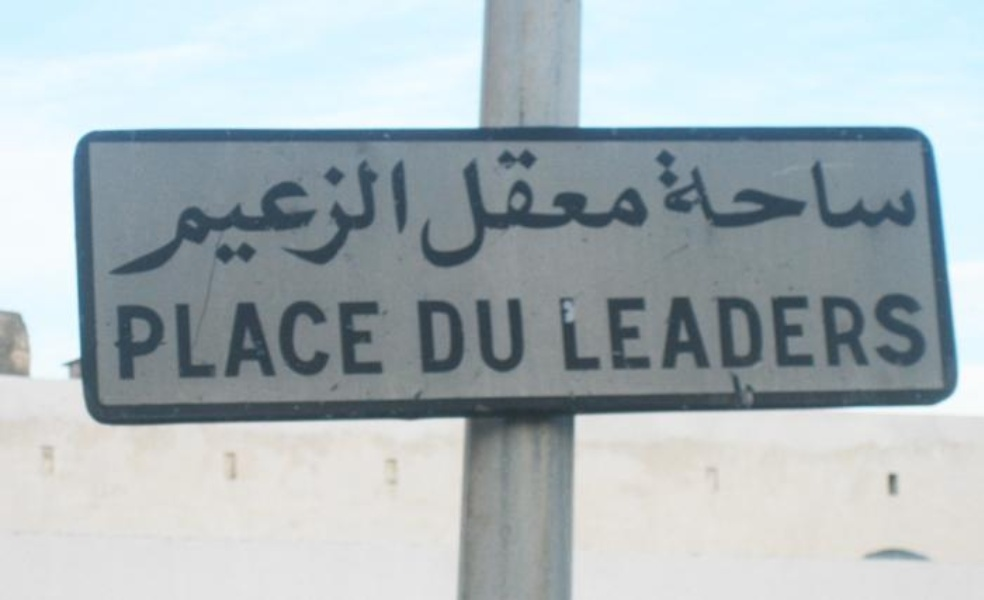text: (113, 154, 128, 282), (129, 154, 144, 282), (145, 154, 160, 282), (161, 154, 176, 282), (177, 154, 192, 282), (193, 154, 208, 282), (209, 154, 224, 282), (225, 154, 240, 282), (241, 154, 256, 282), (257, 154, 272, 282), (273, 154, 288, 282), (289, 154, 304, 282), (305, 154, 320, 282), (321, 154, 336, 282), (337, 154, 352, 282), (353, 154, 368, 282), (369, 154, 384, 282), (385, 154, 400, 282), (433, 147, 448, 270), (449, 147, 464, 270), (465, 147, 480, 270), (481, 147, 496, 270), (497, 147, 512, 270), (513, 147, 528, 270), (529, 147, 544, 270), (545, 147, 560, 270), (561, 147, 576, 270), (577, 147, 592, 270), (593, 147, 608, 270), (609, 147, 624, 270), (625, 147, 640, 270), (419, 147, 432, 270), (657, 145, 672, 232), (673, 145, 688, 232), (689, 145, 704, 232), (705, 145, 720, 232), (721, 145, 736, 232), (737, 145, 752, 232), (753, 145, 768, 232), (769, 145, 784, 232), (785, 145, 800, 232), (801, 145, 816, 232), (817, 145, 832, 232), (833, 145, 848, 232), (849, 145, 864, 232), (865, 145, 880, 232), (881, 145, 896, 232), (897, 145, 912, 232), (113, 297, 128, 384), (129, 297, 144, 384), (145, 297, 160, 384), (161, 297, 176, 384), (177, 297, 192, 384), (193, 297, 208, 384), (209, 297, 224, 384), (225, 297, 240, 384), (241, 297, 256, 384), (257, 297, 272, 384), (273, 297, 288, 384), (289, 297, 304, 384), (305, 297, 320, 384), (321, 297, 336, 384), (337, 297, 352, 384), (353, 297, 368, 384), (369, 297, 384, 384), (401, 154, 411, 282), (561, 293, 576, 376), (577, 293, 592, 376), (593, 293, 608, 376), (609, 293, 624, 376), (625, 293, 640, 376), (641, 293, 656, 376), (657, 293, 672, 376), (673, 293, 688, 376), (689, 293, 704, 376), (705, 293, 720, 376), (721, 293, 736, 376), (737, 293, 752, 376), (753, 293, 768, 376), (769, 293, 784, 376), (785, 293, 800, 376), (801, 293, 816, 376), (817, 293, 832, 376), (833, 293, 848, 376), (849, 293, 864, 376), (865, 293, 880, 376), (881, 293, 896, 376), (897, 293, 912, 376), (417, 298, 432, 377), (433, 298, 448, 377), (449, 298, 464, 377), (465, 298, 480, 377), (481, 298, 496, 377), (497, 298, 512, 377), (513, 298, 526, 377), (913, 293, 925, 376), (105, 154, 112, 282), (641, 147, 647, 270), (650, 145, 656, 232), (385, 297, 390, 384), (913, 145, 917, 232), (412, 298, 416, 377), (557, 293, 560, 376)
